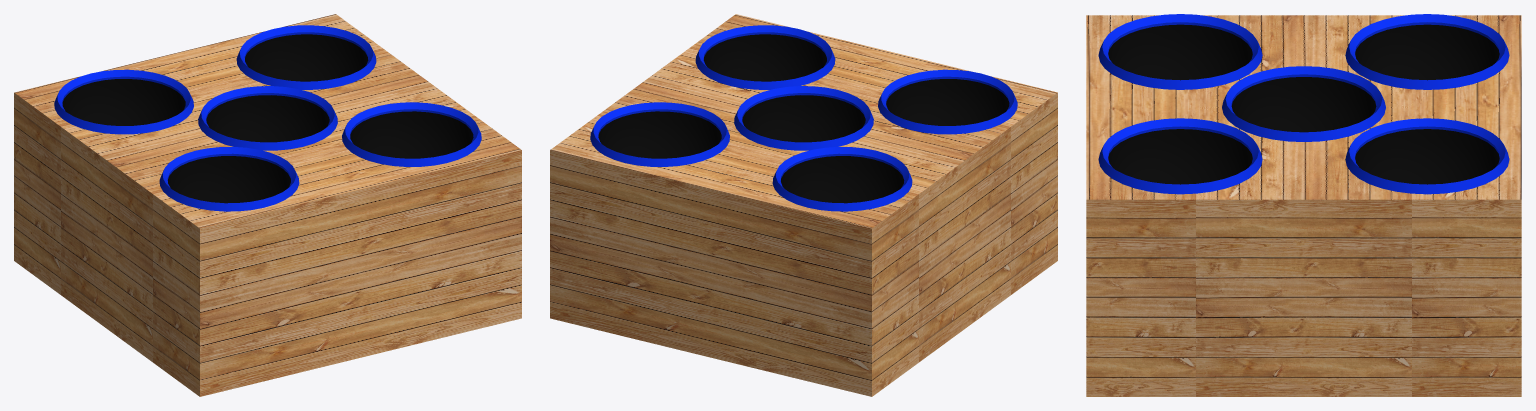
File: board.FBX
3 renders of one model, left to right at view 1: azimuth 30°, elevation 25°; view 2: azimuth 150°, elevation 25°; view 3: azimuth 270°, elevation 25°, orthographic. The views are drawn at different scales.
Parts seen in each view (by area): view 1: Board Base, Sphere001, Sphere005, Sphere002, Sphere004, Sphere003; view 2: Board Base, Sphere001, Sphere005, Sphere002, Sphere003, Sphere004; view 3: Board Base, Sphere005, Sphere002, Sphere003, Sphere004, Sphere001.
Boxes of the visible parts, x1,y1,x2,y2 form: Board Base: (14,14,521,396); Sphere001: (206,95,329,142); Sphere005: (245,34,368,81); Sphere002: (350,111,473,158); Sphere004: (62,79,185,125); Sphere003: (167,156,290,203); Board Base: (550,14,1057,396); Sphere001: (742,95,865,142); Sphere005: (598,111,721,158); Sphere002: (703,34,826,81); Sphere003: (886,79,1009,125); Sphere004: (781,156,904,203); Board Base: (1086,14,1521,396); Sphere005: (1355,129,1499,184); Sphere002: (1108,129,1252,184); Sphere003: (1108,24,1252,80); Sphere004: (1355,24,1499,80); Sphere001: (1231,77,1376,132).
Bounding box in the file's own units: 118 × 61.32 × 118.
